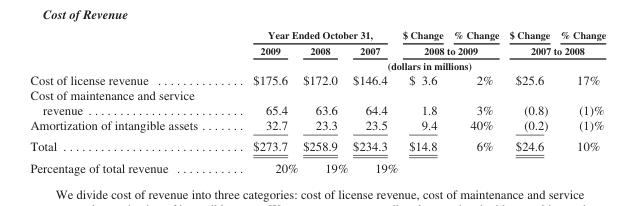table: (29, 29, 605, 175)
table column: (29, 29, 224, 175), (224, 29, 299, 175), (447, 29, 503, 175), (503, 29, 554, 175), (554, 29, 605, 175), (299, 29, 349, 175), (349, 29, 399, 175), (399, 29, 447, 175)
table column header: (29, 29, 605, 71)
table row: (29, 87, 605, 117), (29, 135, 605, 156), (29, 156, 605, 175), (29, 117, 605, 135), (29, 71, 605, 87), (29, 42, 605, 57), (29, 57, 605, 71), (29, 29, 605, 42)
table spanning cell: (224, 57, 605, 71), (224, 29, 399, 42), (399, 42, 503, 57), (503, 42, 605, 57)
